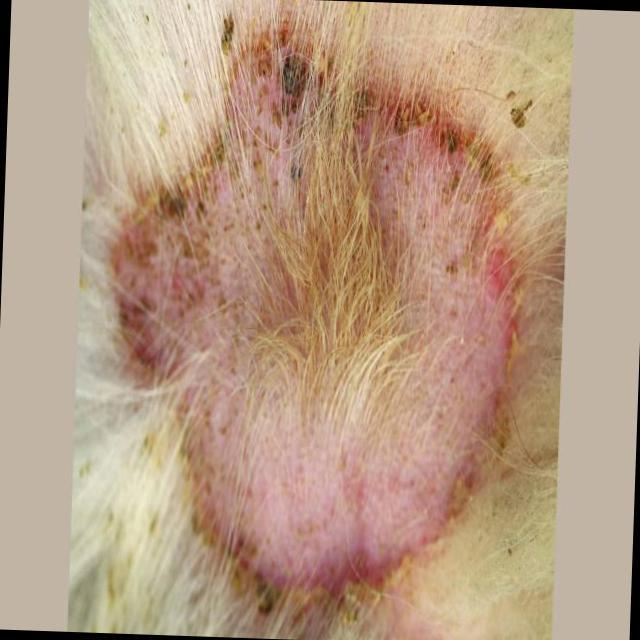allergic dermatitis: (110, 32, 510, 606)
